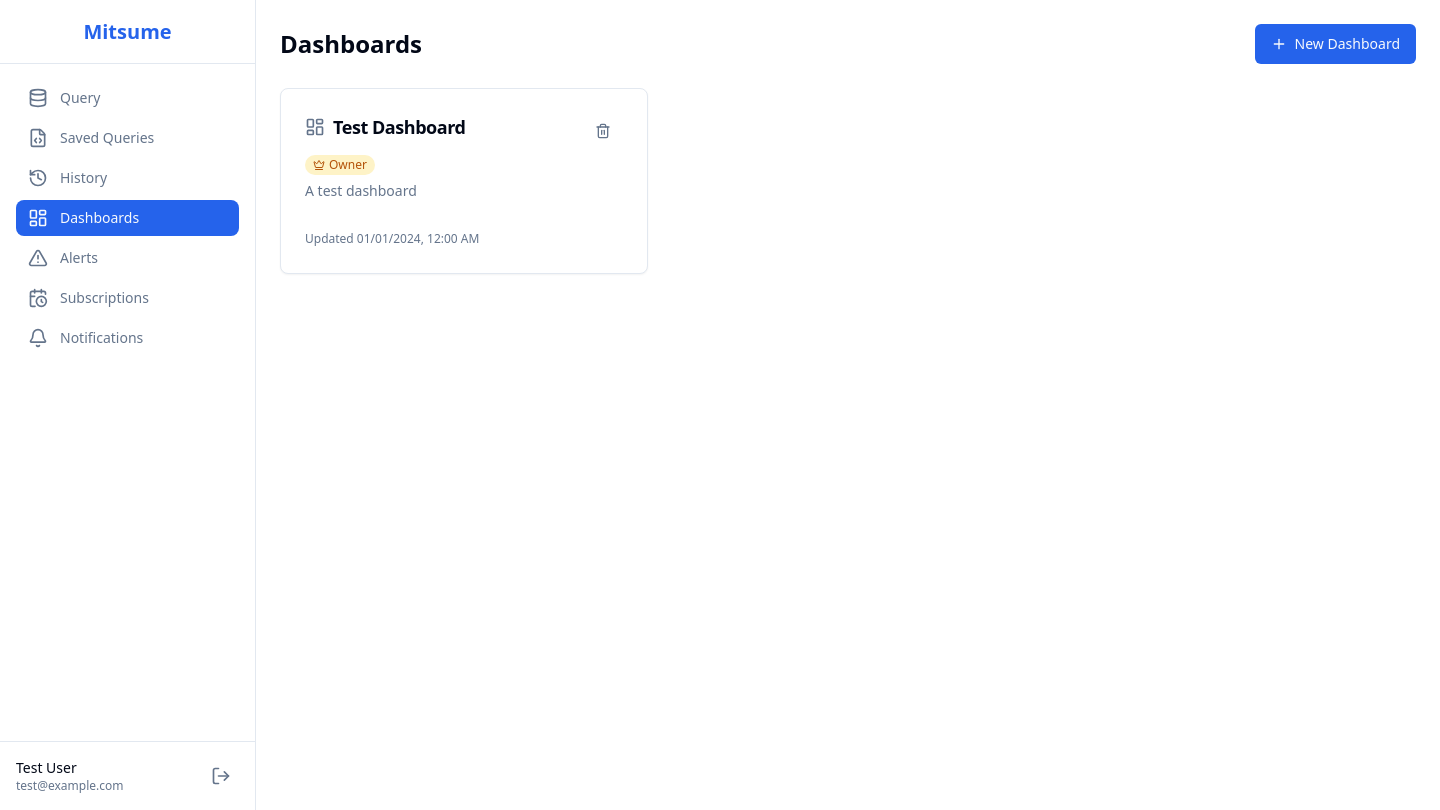
Test: ナビゲーション統合テスト › ダッシュボード作成後に詳細ページに遷移する
// Create new dashboard
Step 1. Click the button "New Dashboard" → (1335, 44), box [1255,24,1416,64]
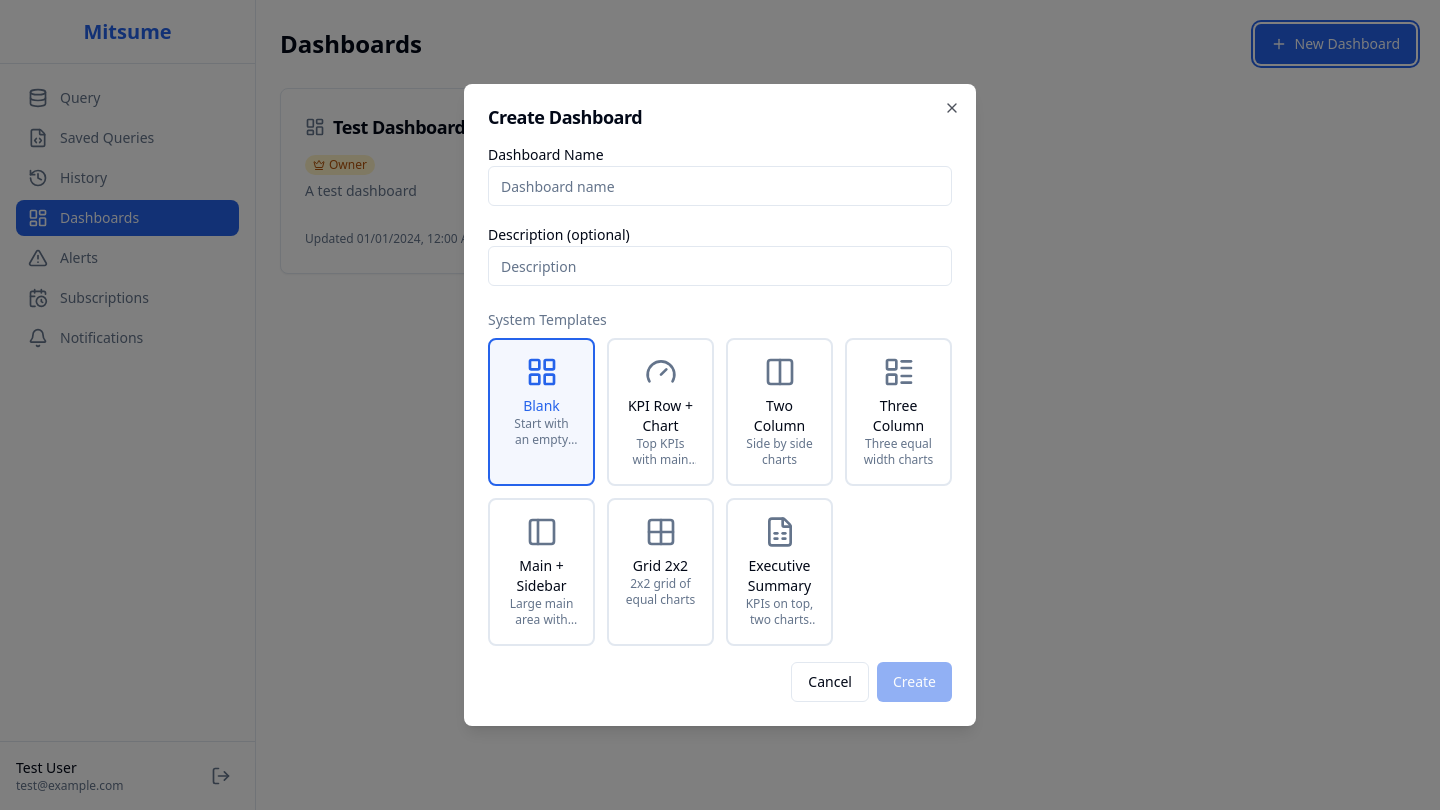
Step 2. Type "Navigation Dashboard" into the field with placeholder "Dashboard name" → (720, 186), box [488,166,952,206]
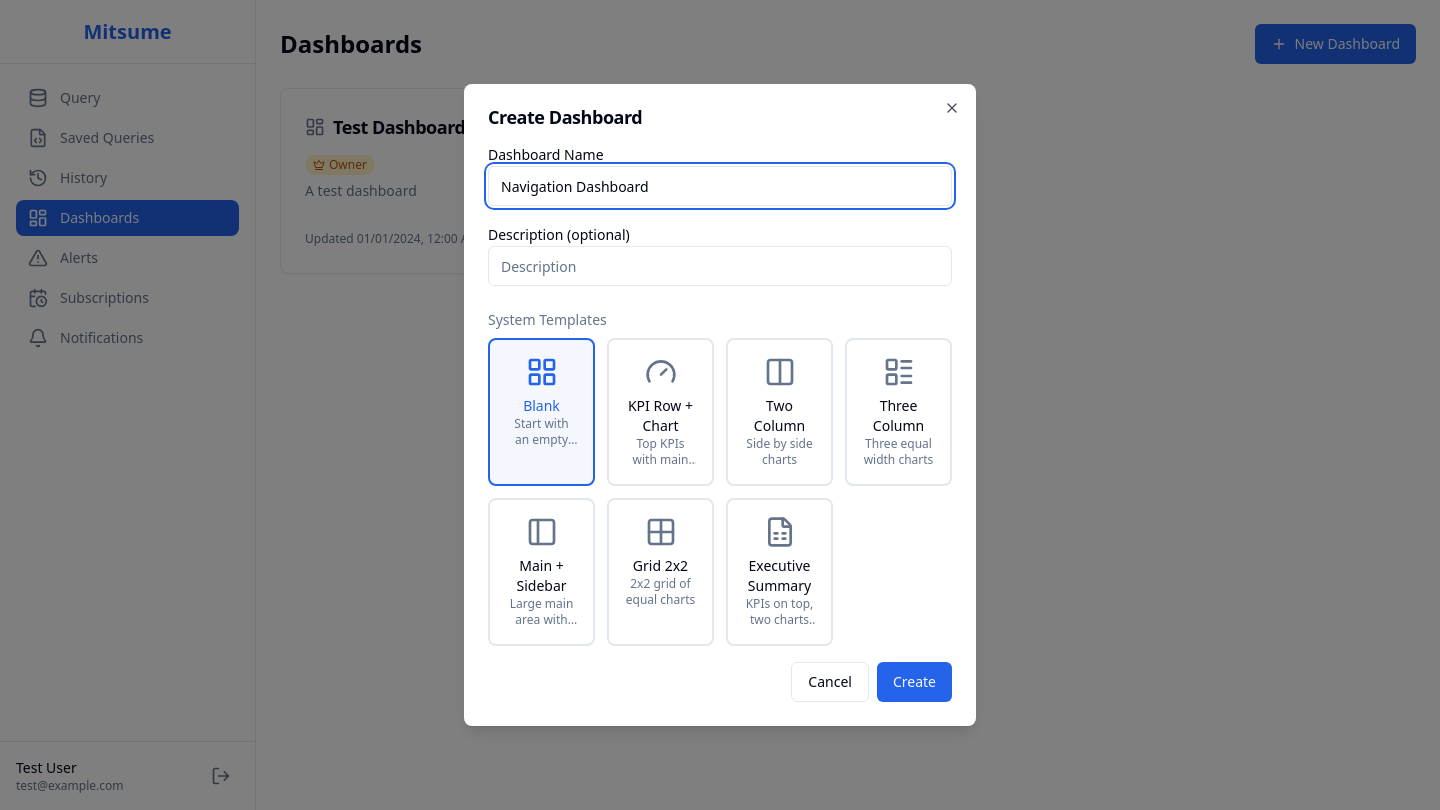
Step 3. Click the button "Create" → (914, 682), box [877,662,952,702]
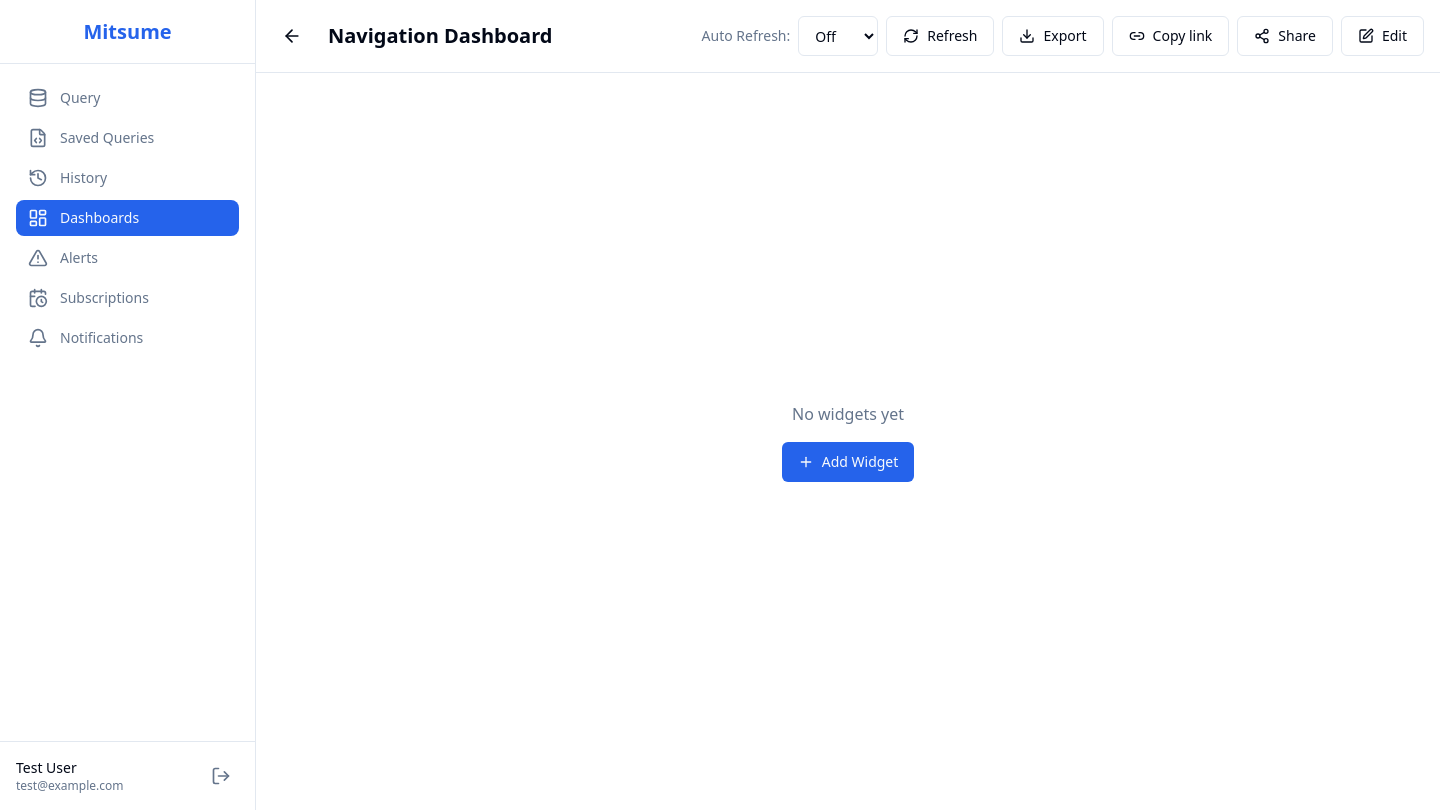
Result: the heading "Navigation Dashboard" is shown at [328,22,552,50]
